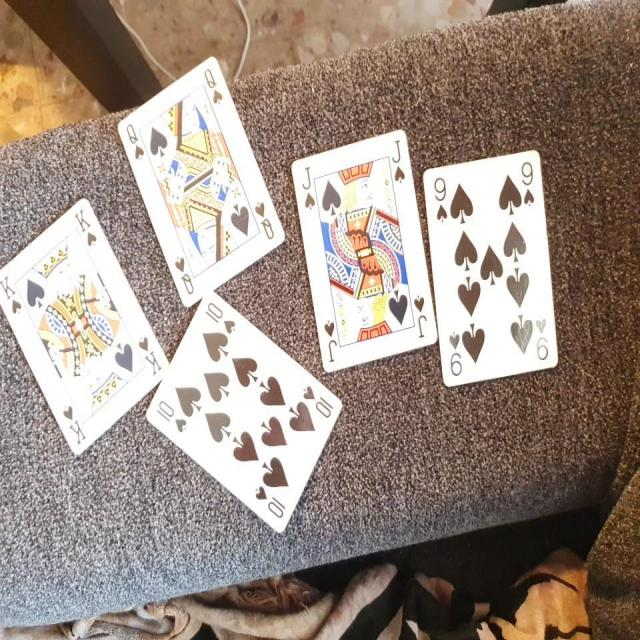10 Spades: (136, 289, 345, 534)
9 Spades: (420, 138, 566, 397)
J Spades: (282, 125, 435, 370)
K Spades: (1, 198, 170, 462)
Q Spades: (113, 50, 292, 309)
